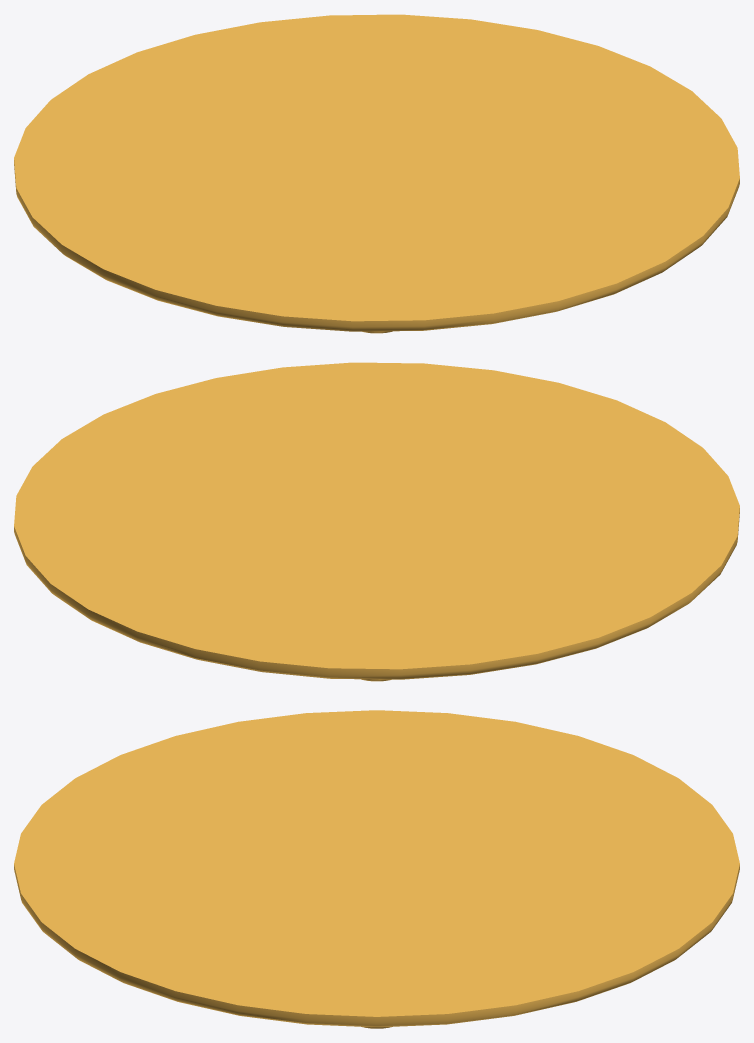
Rendered from scale_bowl.fbx.
3 renders of one model, top to bottom at view 1: azimuth 30°, elevation 25°; view 2: azimuth 150°, elevation 25°; view 3: azimuth 270°, elevation 25°, orthographic.
Parts seen in each view (by area): view 1: ScaleBowl; view 2: ScaleBowl; view 3: ScaleBowl.
Part boxes in pixels (box(x1,y1,x2,y2)): ScaleBowl: box(14, 14, 739, 333); ScaleBowl: box(14, 362, 739, 681); ScaleBowl: box(14, 710, 739, 1028).
Bounding box in the file's own units: 172 × 40.15 × 172.
